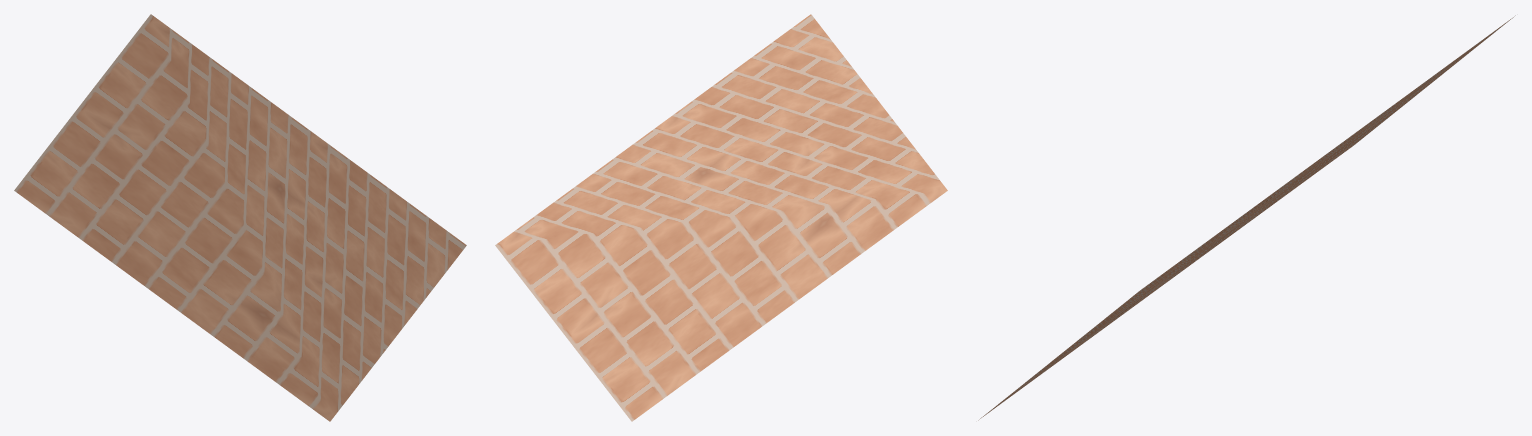
File: Temp_Fold_Str.fbx
3 views of the same model, side by side, from view 1: azimuth 30°, elevation 25°; view 2: azimuth 150°, elevation 25°; view 3: azimuth 330°, elevation 25° (orthographic). The views are drawn at different scales.
Visible parts, largest first — view 1: Temp_Fold_Str; view 2: Temp_Fold_Str; view 3: Temp_Fold_Str.
Part boxes in pixels (left/top/right/bottom): Temp_Fold_Str: left=14, top=14, right=466, bottom=421; Temp_Fold_Str: left=495, top=14, right=947, bottom=421; Temp_Fold_Str: left=978, top=15, right=1515, bottom=420.
Bounding box in the file's own units: 25 × 25 × 100.
Materials: 1 (1 with a texture image).
